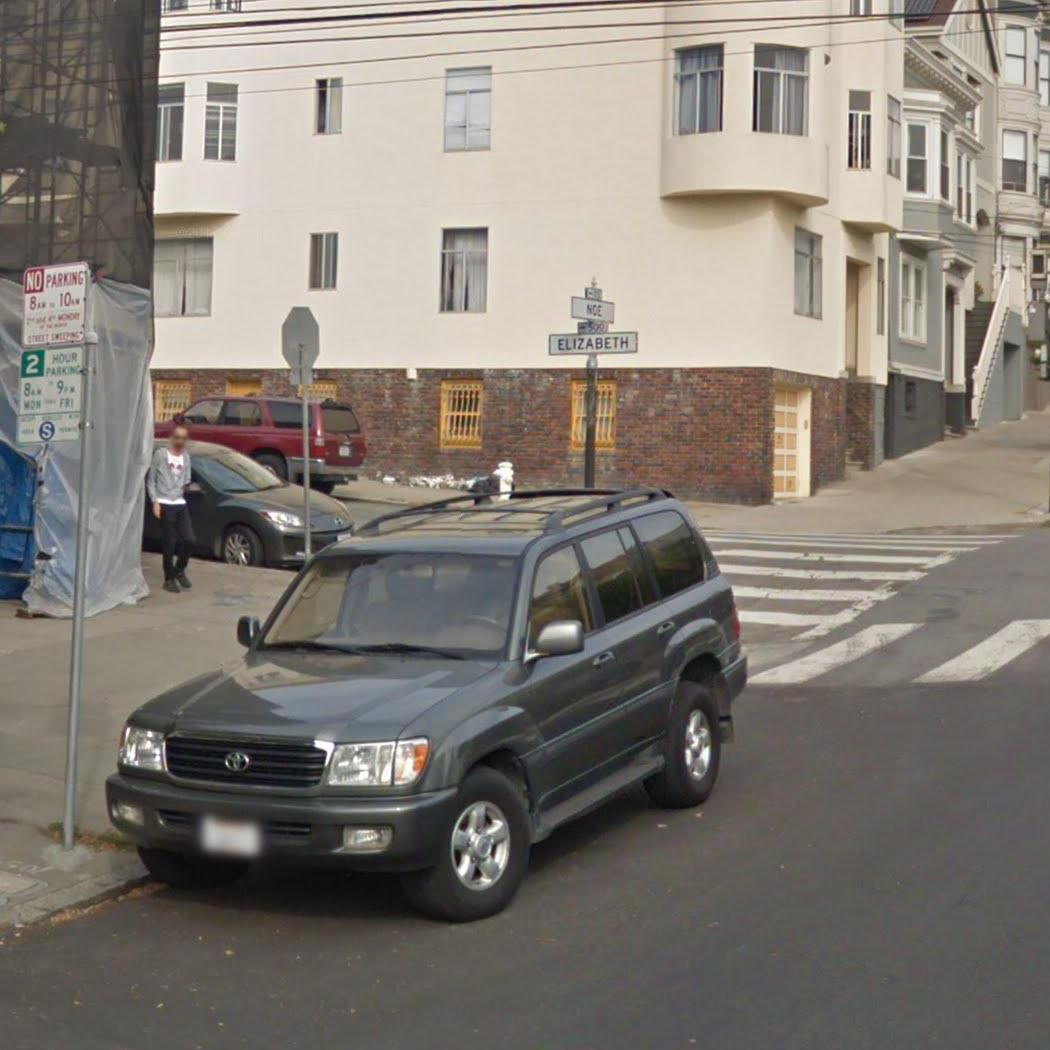2 Hour Parking: (15, 352, 87, 452)
No Parking: (18, 264, 85, 350)
